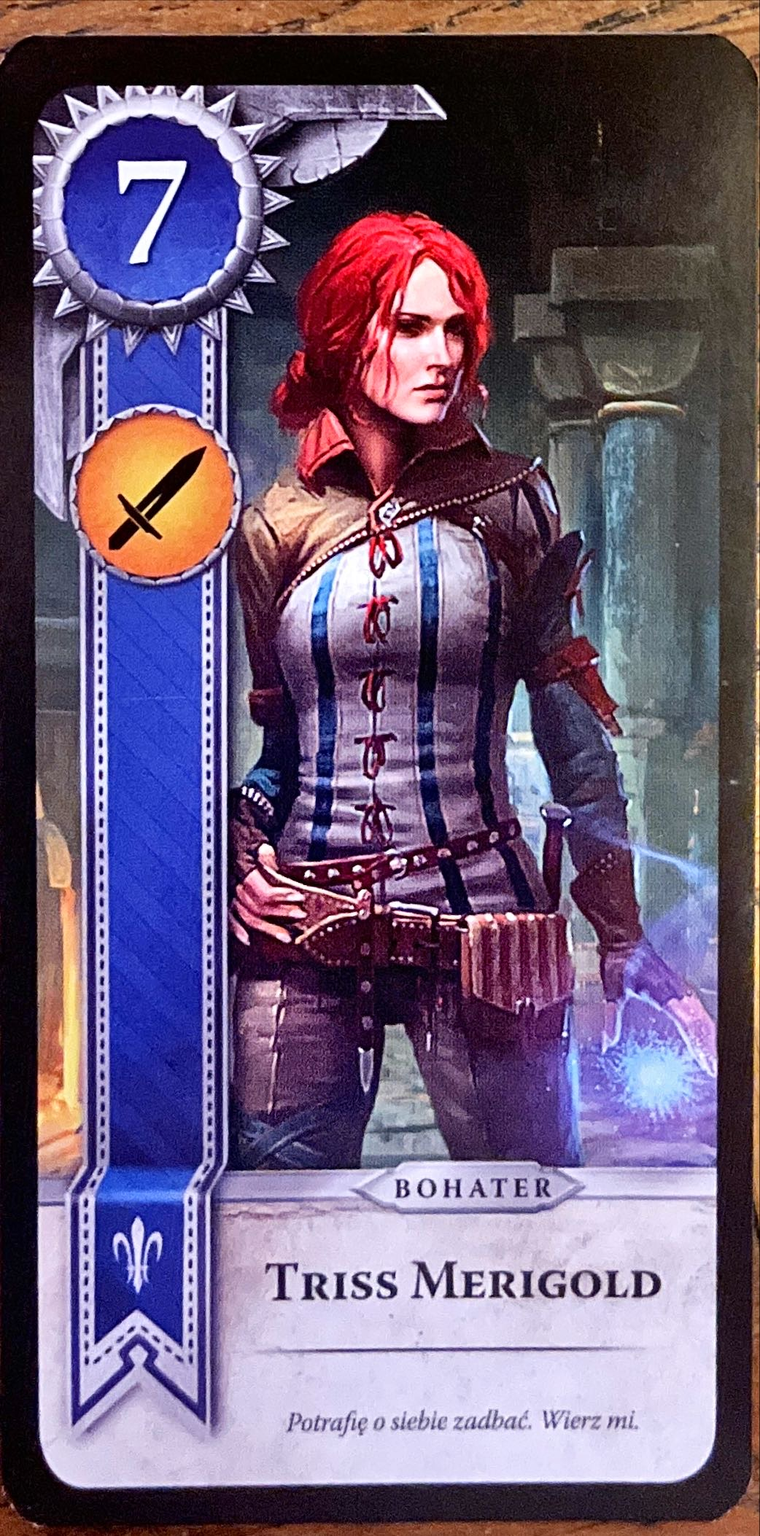7: (23, 77, 291, 360)
bohater: (355, 1154, 586, 1220)
miecz: (68, 401, 239, 589)
